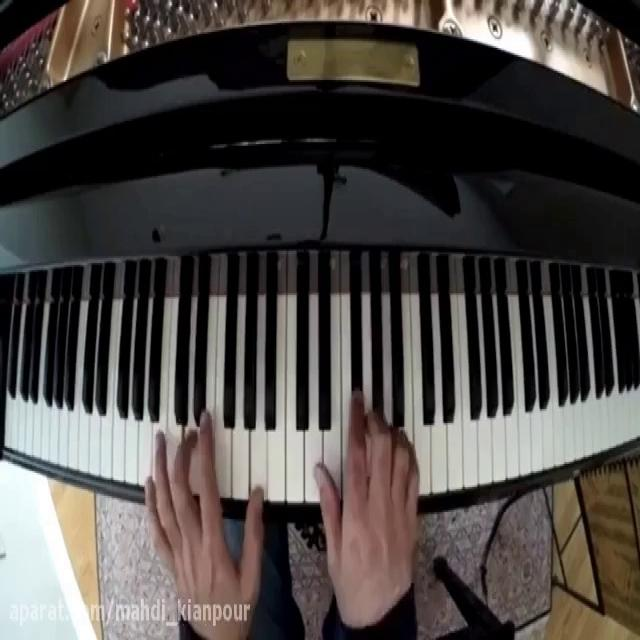Piano: (0, 265, 640, 529)
